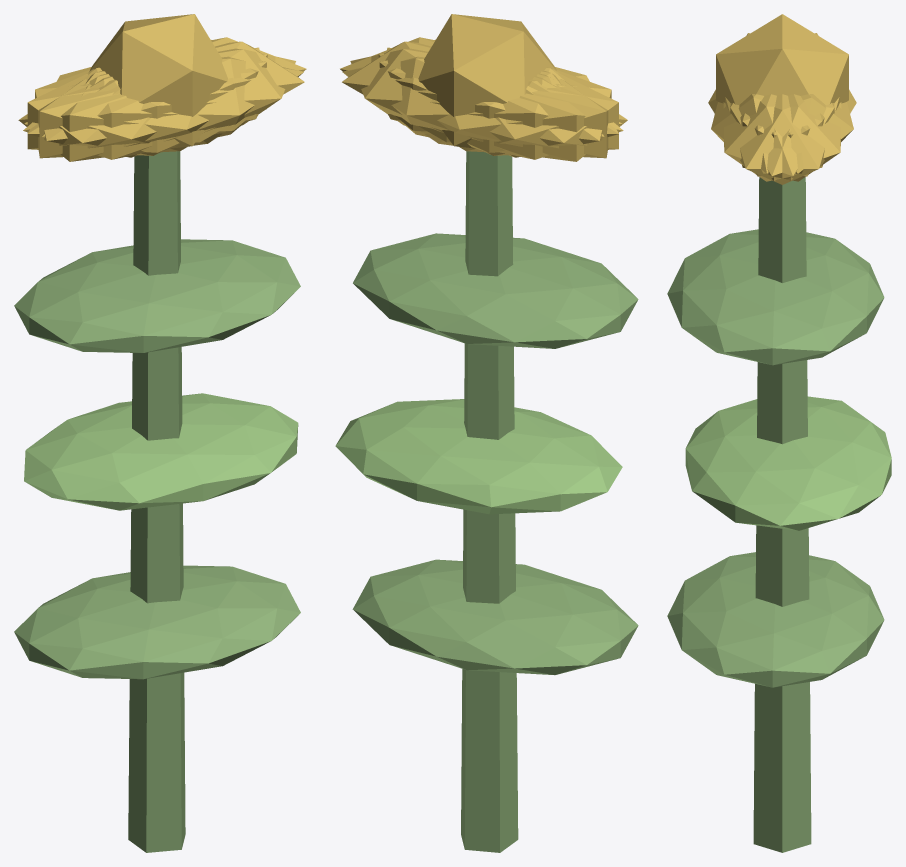
File: physalis-pubescens.glb
3 renders of one model, left to right at view 1: azimuth 30°, elevation 25°; view 2: azimuth 150°, elevation 25°; view 3: azimuth 270°, elevation 25°, orthographic.
Visible parts, largest first — view 1: stem, leaf2, leaf0, leaf1, center, petal1, petal6, petal2, petal5, petal7, petal0, petal4 (+2 smaller); view 2: stem, leaf1, leaf2, leaf0, center, petal8, petal3, petal7, petal4, petal2, petal0, petal5 (+2 smaller); view 3: stem, leaf2, leaf1, leaf0, center, petal0, petal5, petal4, petal1, petal8.
Part boxes in pixels (box(x1,y1,x2,y2)): stem: box(128, 151, 185, 852); leaf2: box(14, 239, 300, 352); leaf0: box(14, 565, 300, 679); leaf1: box(24, 393, 298, 510); center: box(89, 14, 227, 148); petal1: box(23, 56, 303, 159); petal6: box(18, 69, 221, 161); petal2: box(38, 47, 259, 158); petal5: box(42, 48, 295, 152); petal7: box(27, 53, 267, 155); petal0: box(89, 41, 304, 142); petal4: box(24, 37, 306, 134); stem: box(461, 151, 518, 852); leaf1: box(335, 399, 622, 514); leaf2: box(353, 233, 638, 348); leaf0: box(352, 559, 638, 675); center: box(418, 14, 556, 148); petal8: box(342, 56, 623, 159); petal3: box(424, 69, 627, 161); petal7: box(387, 47, 608, 158); petal4: box(350, 48, 604, 152); petal2: box(378, 53, 618, 155); petal0: box(342, 41, 557, 142); petal5: box(340, 37, 621, 134); stem: box(753, 177, 811, 852); leaf2: box(667, 229, 884, 365); leaf1: box(685, 396, 891, 530); leaf0: box(667, 552, 884, 687); center: box(716, 14, 848, 104); petal0: box(725, 94, 839, 184); petal5: box(723, 94, 834, 181); petal4: box(730, 94, 841, 181); petal1: box(711, 94, 824, 173); petal8: box(740, 94, 853, 173).
Bounding box in the file's own units: 0.1452 × 0.4105 × 0.1033.
